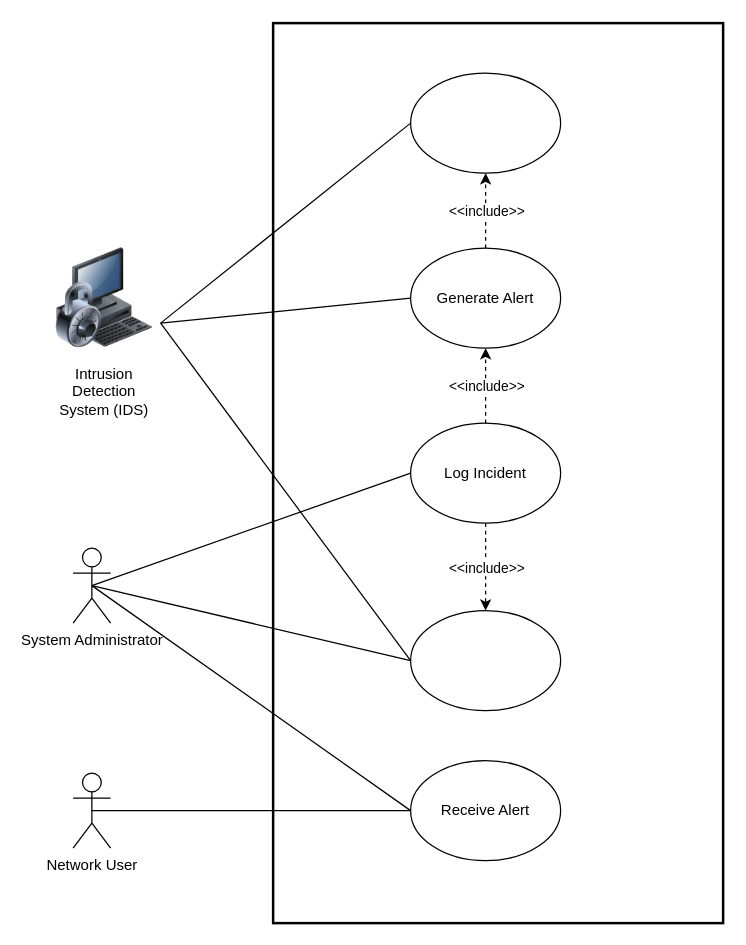
This 746x945 diagram has some shape labels left out. Each missing label, with the centre of its shape:
"Detect Intrusion" goes at point (485, 122).
"Review Logs" goes at point (485, 660).
